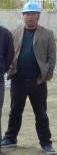boots: (0, 137, 17, 148), (0, 148, 10, 155)
hard-hat: (22, 1, 42, 12)
